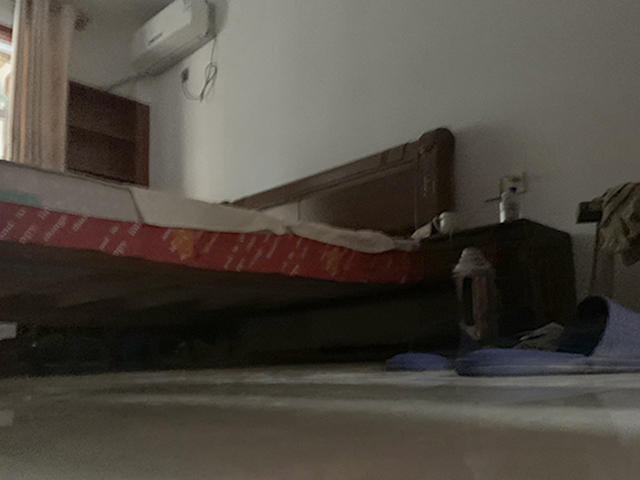bed: (1, 126, 456, 352)
cabinet: (421, 217, 578, 345)
curtain: (11, 1, 68, 177)
slippers: (457, 290, 639, 373)
